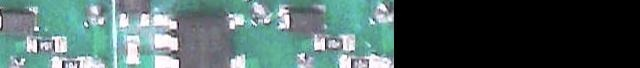chip-capacitor: (127, 35, 141, 64)
chip-resistor: (316, 34, 355, 51), (29, 36, 67, 53), (340, 54, 376, 68), (52, 56, 91, 68)
diode: (279, 3, 326, 33), (0, 7, 40, 32)
ic: (153, 10, 249, 68)
